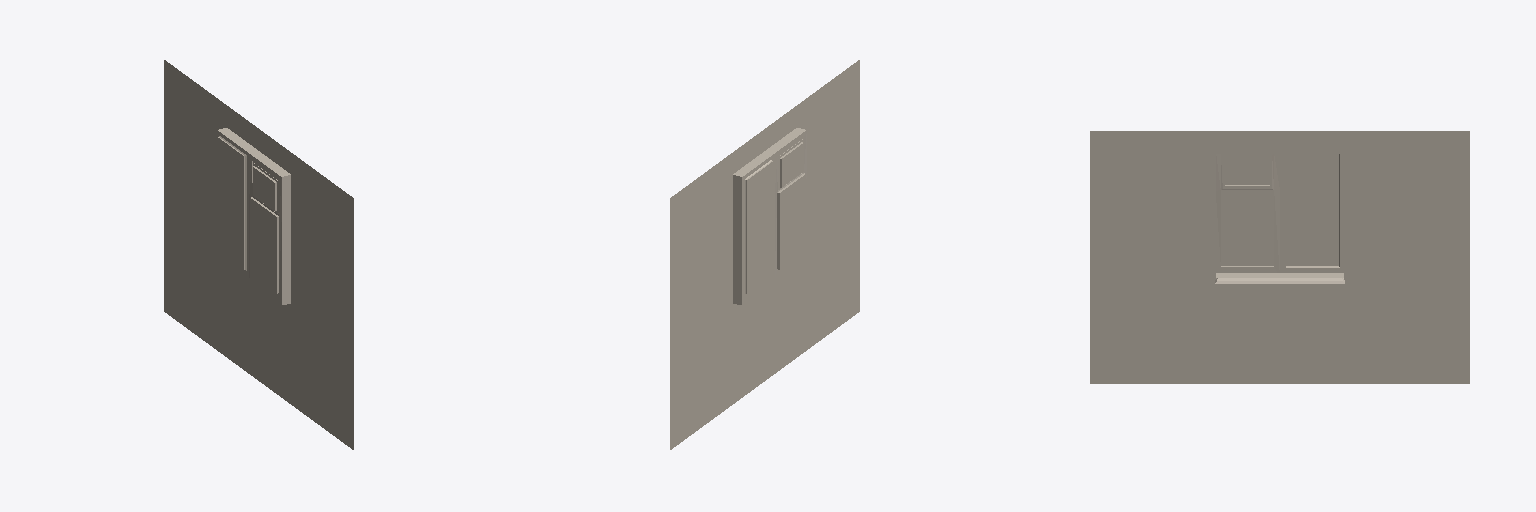
File: Grey_Wall_01.obj
The picture shows the model from 3 angles: view 1: azimuth 30°, elevation 25°; view 2: azimuth 150°, elevation 25°; view 3: azimuth 270°, elevation 25°; orthographic projection.
Visible parts, largest first — view 1: WallWindow1_high_Wood_Wall_Double_Cross_01.003; view 2: WallWindow1_high_Wood_Wall_Double_Cross_01.003; view 3: WallWindow1_high_Wood_Wall_Double_Cross_01.003.
Boxes of the visible parts, x1,y1,x2,y2 form: WallWindow1_high_Wood_Wall_Double_Cross_01.003: [164, 60, 353, 449]; WallWindow1_high_Wood_Wall_Double_Cross_01.003: [670, 60, 859, 449]; WallWindow1_high_Wood_Wall_Double_Cross_01.003: [1090, 131, 1469, 383].
Bounding box in the file's own units: 0.1566 × 2.2 × 3.